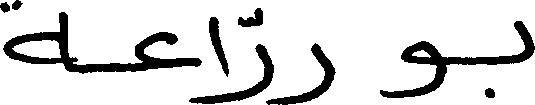X: (0, 0, 68, 75), (135, 27, 198, 104), (383, 36, 446, 102), (231, 3, 272, 104), (291, 38, 334, 104), (208, 12, 229, 104), (513, 16, 534, 68)
